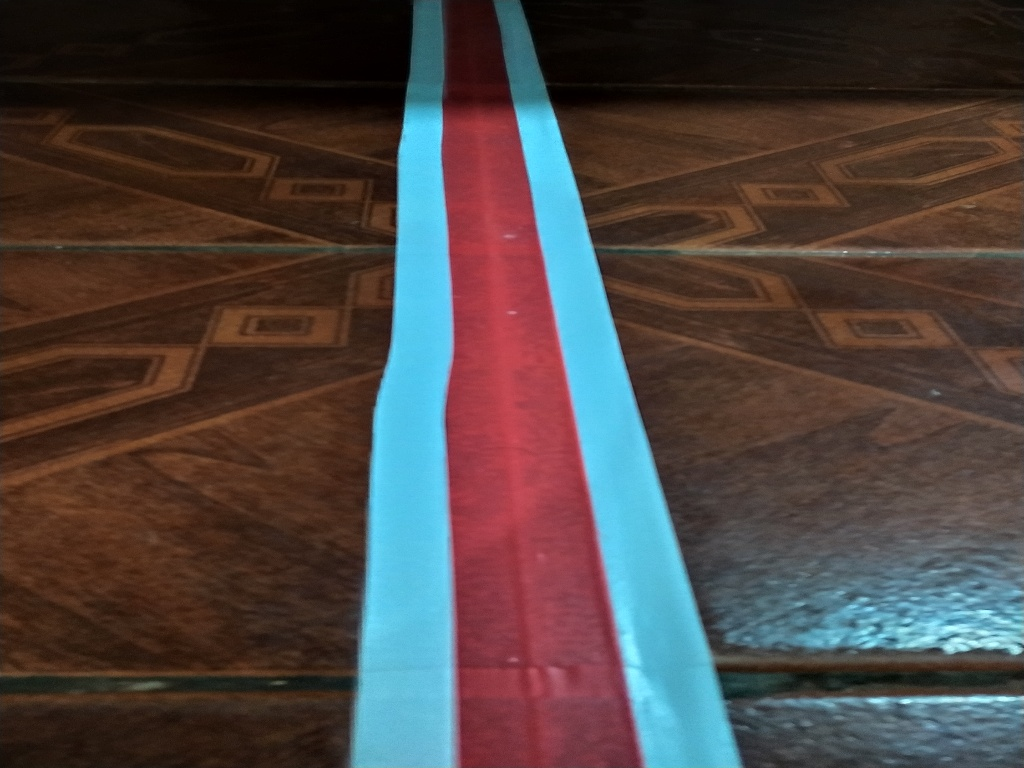reta: (351, 9, 739, 768)
